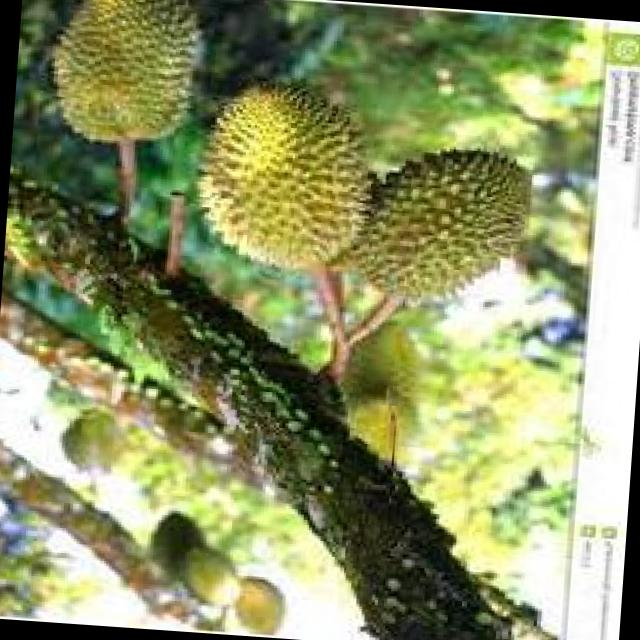fruit: (178, 62, 393, 294), (336, 124, 543, 327), (29, 0, 216, 161)
